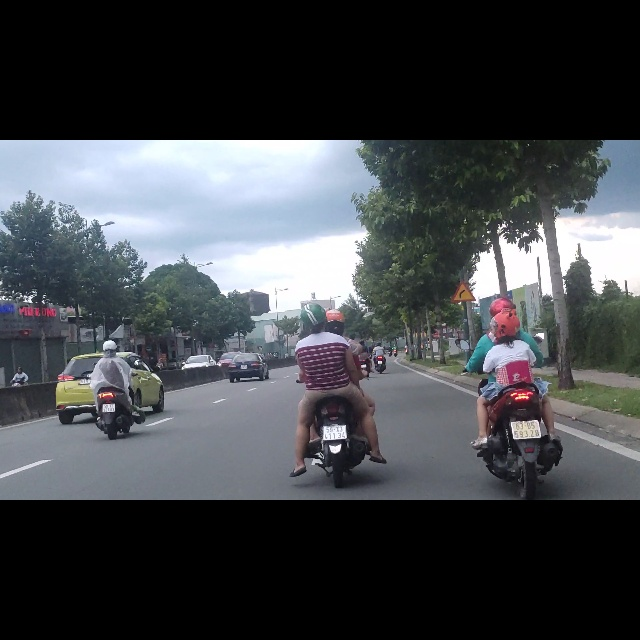bien_nguy_hiem: (451, 251, 476, 289)
